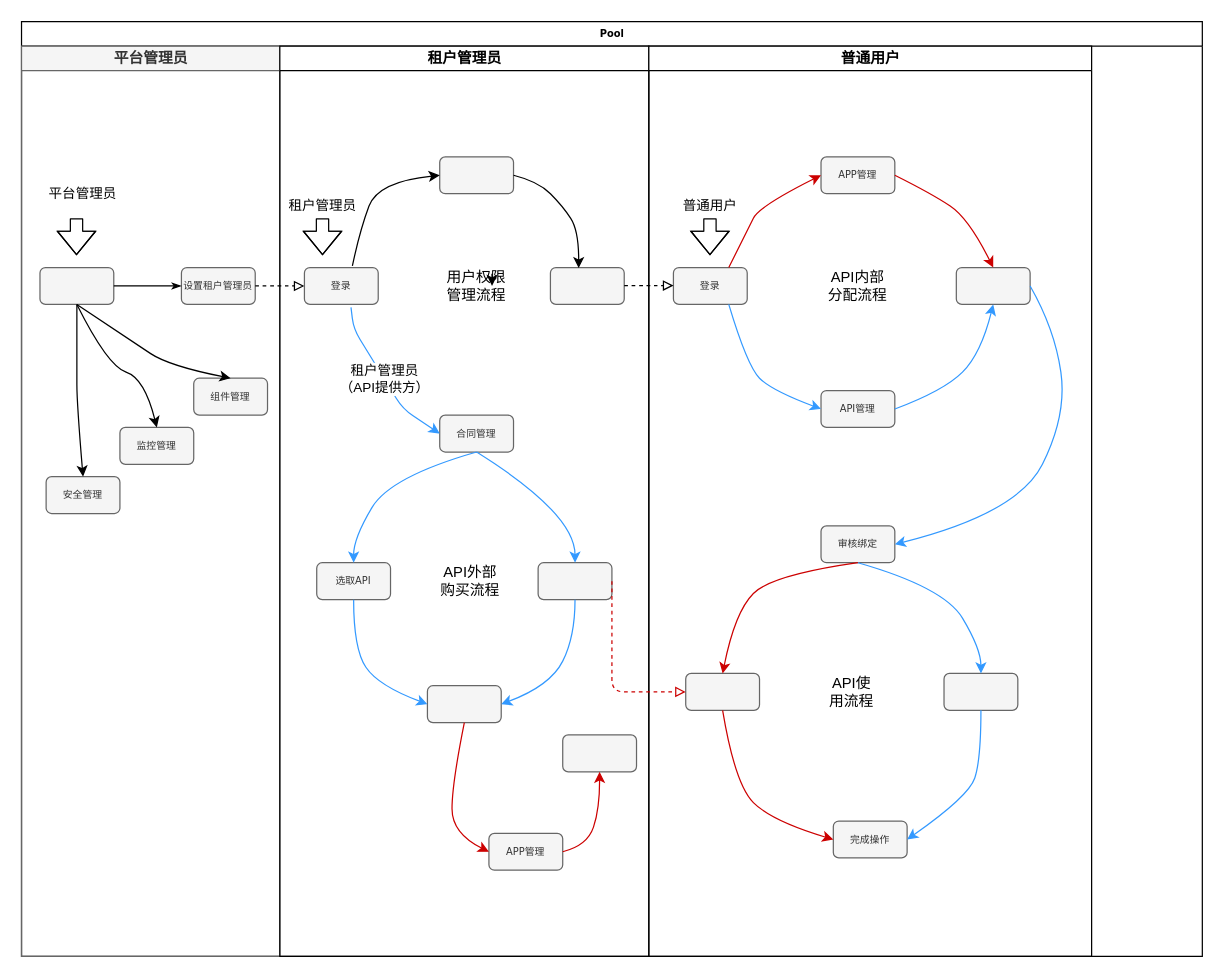
Image size: 1224x978. Some labels were removed from this diagram. The centre of each missing label's shape, as x and y in pixels:
"API申请流程" belongs at point 992,285.
"合同生效" belongs at point 463,703.
"平台登录" belongs at point 76,285.
"捞取用户" belongs at point 476,175.
"监控统计" belongs at point 980,691.
"绑定用户" belongs at point 599,753.
"获取Token" belongs at point 722,691.
"设置用户角色" belongs at point 586,285.
"选取租户" belongs at point 574,580.
